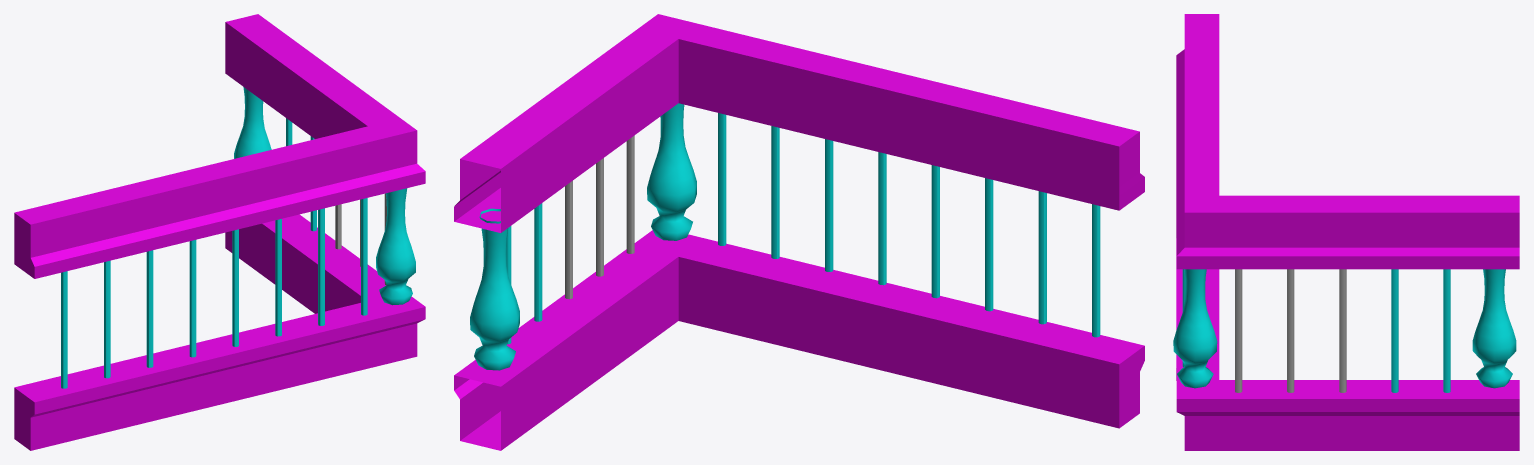
File: balkuni_02.fbx
The picture shows the model from 3 angles, left to right: view 1: azimuth 30°, elevation 25°; view 2: azimuth 150°, elevation 25°; view 3: azimuth 270°, elevation 25°; orthographic projection. The views are drawn at different scales.
Parts seen in each view (by area): view 1: polySurface200, polySurface209, polySurface194, polySurface210, polySurface205, polySurface206, polySurface201, polySurface204, polySurface207, polySurface208, polySurface202, polySurface203; view 2: polySurface209, polySurface200, polySurface210, polySurface194, polySurface207, polySurface208, polySurface205, polySurface206, polySurface203, polySurface201, polySurface202, polySurface204 (+4 smaller); view 3: polySurface200, polySurface209, polySurface210, polySurface194, polySurface199, polySurface195, polySurface196, polySurface197, polySurface198.
Part boxes in pixels (<box>): polySurface200: <box>14,14,425,278</box>; polySurface209: <box>14,214,425,450</box>; polySurface194: <box>376,188,415,305</box>; polySurface210: <box>234,87,271,158</box>; polySurface205: <box>189,240,196,357</box>; polySurface206: <box>146,250,153,367</box>; polySurface201: <box>361,198,367,315</box>; polySurface204: <box>275,219,281,336</box>; polySurface207: <box>104,260,110,378</box>; polySurface208: <box>61,271,67,388</box>; polySurface202: <box>318,208,324,325</box>; polySurface203: <box>232,229,238,346</box>; polySurface209: <box>454,230,1144,450</box>; polySurface200: <box>454,14,1144,232</box>; polySurface210: <box>470,208,519,370</box>; polySurface194: <box>647,103,696,240</box>; polySurface207: <box>1038,191,1046,324</box>; polySurface208: <box>1092,204,1100,337</box>; polySurface205: <box>931,165,939,298</box>; polySurface206: <box>985,178,993,311</box>; polySurface203: <box>878,152,886,285</box>; polySurface201: <box>718,113,726,245</box>; polySurface202: <box>771,126,779,258</box>; polySurface204: <box>825,139,833,271</box>; polySurface200: <box>1176,14,1519,269</box>; polySurface209: <box>1176,238,1519,450</box>; polySurface210: <box>1472,269,1516,388</box>; polySurface194: <box>1173,269,1217,388</box>; polySurface199: <box>1235,269,1242,392</box>; polySurface195: <box>1443,269,1450,392</box>; polySurface196: <box>1391,269,1398,392</box>; polySurface197: <box>1339,269,1346,392</box>; polySurface198: <box>1287,269,1294,392</box>.
Bounding box in the file's own units: 277 × 153 × 202.
